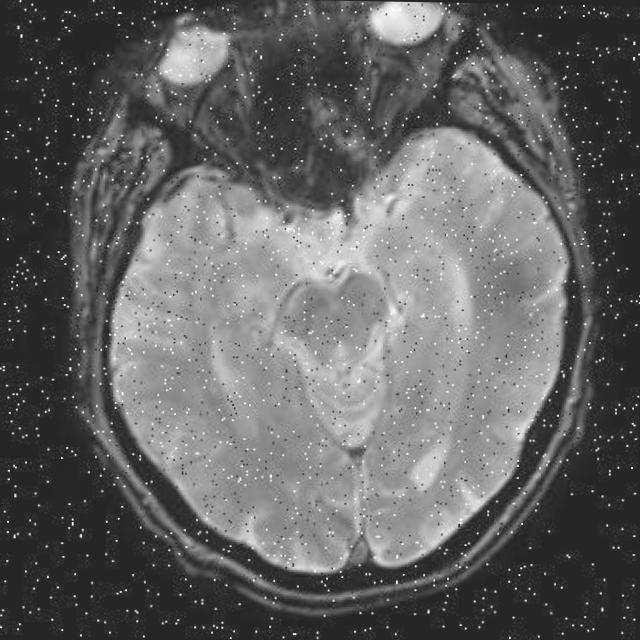MCI: (450, 212, 577, 362), (140, 152, 256, 249)
